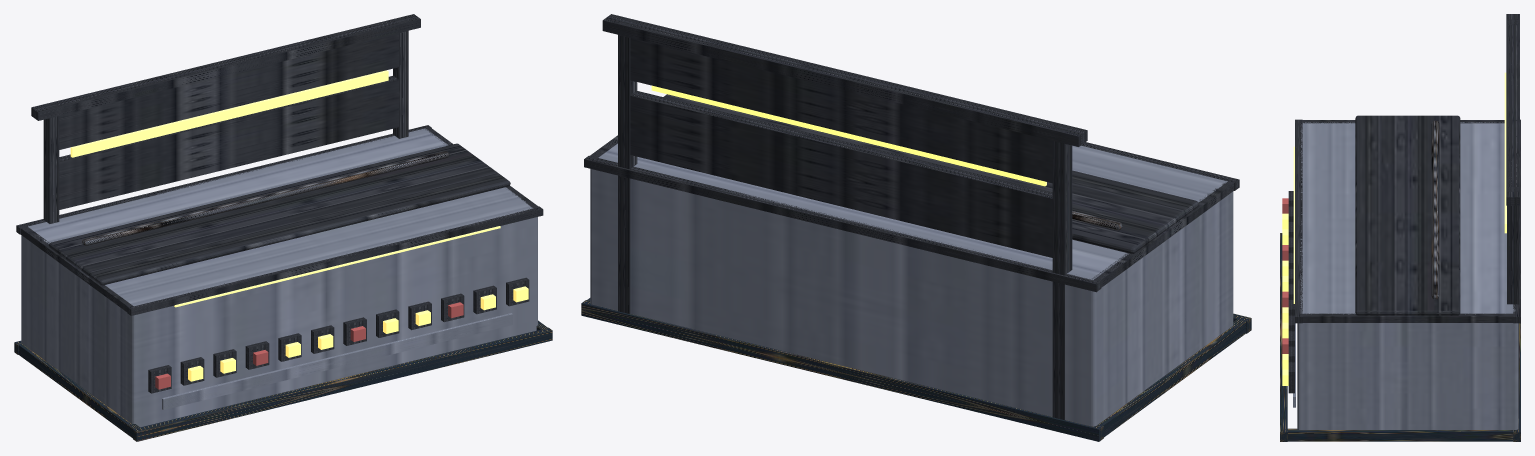
File: power_breakerbank.glb
3 renders of one model, left to right at view 1: azimuth 30°, elevation 25°; view 2: azimuth 150°, elevation 25°; view 3: azimuth 270°, elevation 25°, orthographic. The views are drawn at different scales.
Visible parts, largest first — view 1: body, sight_shell, top, shelltoe0, label, shellrim0, sightglow, bus, shelltoes0, shellrim2, shellrims0, shellglow; view 2: body, sight_shell, top, shelltoe2, shellrim2, shelltoes0, sightglow, shellrims0, shellrim0; view 3: body, top, sight_shell, shelltoes2, shellrims2, shellrim0, bus, shelltoe0, sightglow, shellrim2, shellrims0, shelltoe2 (+1 smaller).
Boxes of the visible parts, left/top/right/bottom form: body: left=21, top=128, right=537, bottom=427; sight_shell: left=31, top=14, right=420, bottom=223; top: left=49, top=143, right=510, bottom=285; shelltoe0: left=133, top=327, right=552, bottom=441; label: left=162, top=313, right=512, bottom=409; shellrim0: left=127, top=206, right=543, bottom=315; sightglow: left=70, top=70, right=388, bottom=157; bus: left=82, top=151, right=449, bottom=245; shelltoes0: left=18, top=343, right=139, bottom=438; shellrim2: left=16, top=125, right=431, bottom=234; shellrims0: left=20, top=225, right=132, bottom=311; shellglow: left=174, top=226, right=500, bottom=307; body: left=590, top=143, right=1233, bottom=426; sight_shell: left=602, top=14, right=1087, bottom=420; top: left=663, top=94, right=1198, bottom=253; shelltoe2: left=581, top=300, right=1103, bottom=441; shellrim2: left=584, top=156, right=1101, bottom=292; shelltoes0: left=1097, top=319, right=1246, bottom=437; sightglow: left=651, top=85, right=1046, bottom=186; shellrims0: left=1092, top=181, right=1233, bottom=287; shellrim0: left=1081, top=142, right=1239, bottom=190; body: left=1297, top=122, right=1518, bottom=429; top: left=1355, top=115, right=1460, bottom=315; sight_shell: left=1506, top=14, right=1519, bottom=418; shelltoes2: left=1287, top=428, right=1513, bottom=441; shellrims2: left=1300, top=313, right=1515, bottom=322; shellrim0: left=1295, top=119, right=1302, bottom=323; bus: left=1431, top=120, right=1439, bottom=299; shelltoe0: left=1280, top=233, right=1287, bottom=441; sightglow: left=1504, top=72, right=1506, bottom=233; shellrim2: left=1513, top=119, right=1520, bottom=323; shellrims0: left=1300, top=120, right=1504, bottom=123; shelltoe2: left=1513, top=323, right=1520, bottom=441.
Bounding box in the file's own units: 3.07 × 1.7 × 1.57.
9 materials, 6 textured.
